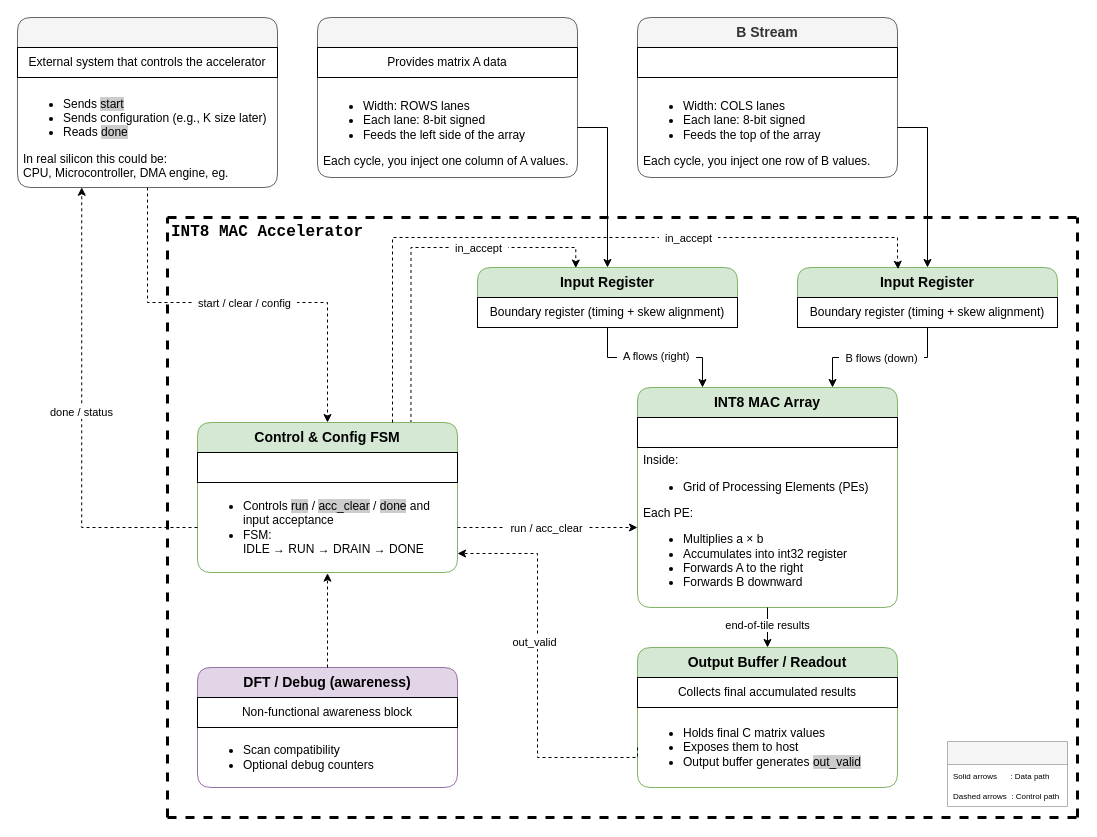
The diagram is 1097 pixels wide and 837 high, and some of its shapes have lost their labels. Each missing label, with the box of its shape:
A Stream: (316, 16, 578, 178)
Core computation engine: (636, 416, 898, 448)
Host / Driver: (16, 16, 278, 188)
Internal control logic of the accelerator: (196, 452, 458, 482)
Legend: (947, 741, 1067, 806)
Provides matrix B data: (636, 46, 898, 78)
